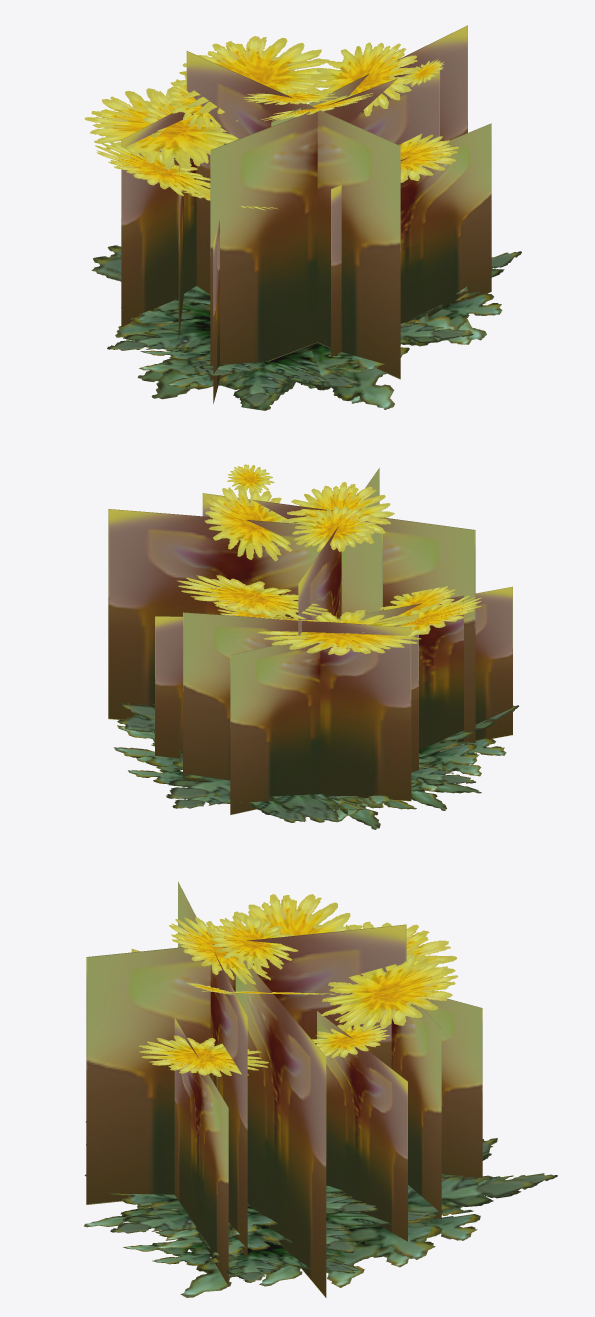
File: far.glb
3 renders of one model, top to bottom at view 1: azimuth 30°, elevation 25°; view 2: azimuth 150°, elevation 25°; view 3: azimuth 270°, elevation 25°, orthographic. The views are drawn at different scales.
Visible parts, largest first — view 1: lod1, lod2; view 2: lod1, lod2; view 3: lod1, lod2.
Boxes of the visible parts, x1,y1,x2,y2 form: lod1: [107, 25, 521, 410]; lod2: [84, 36, 486, 407]; lod1: [108, 468, 518, 822]; lod2: [114, 464, 514, 829]; lod1: [84, 881, 557, 1297]; lod2: [84, 894, 537, 1297].
Bounding box in the file's own units: 0.95 × 0.56 × 0.9459.
Materials: 3 (3 with a texture image).
